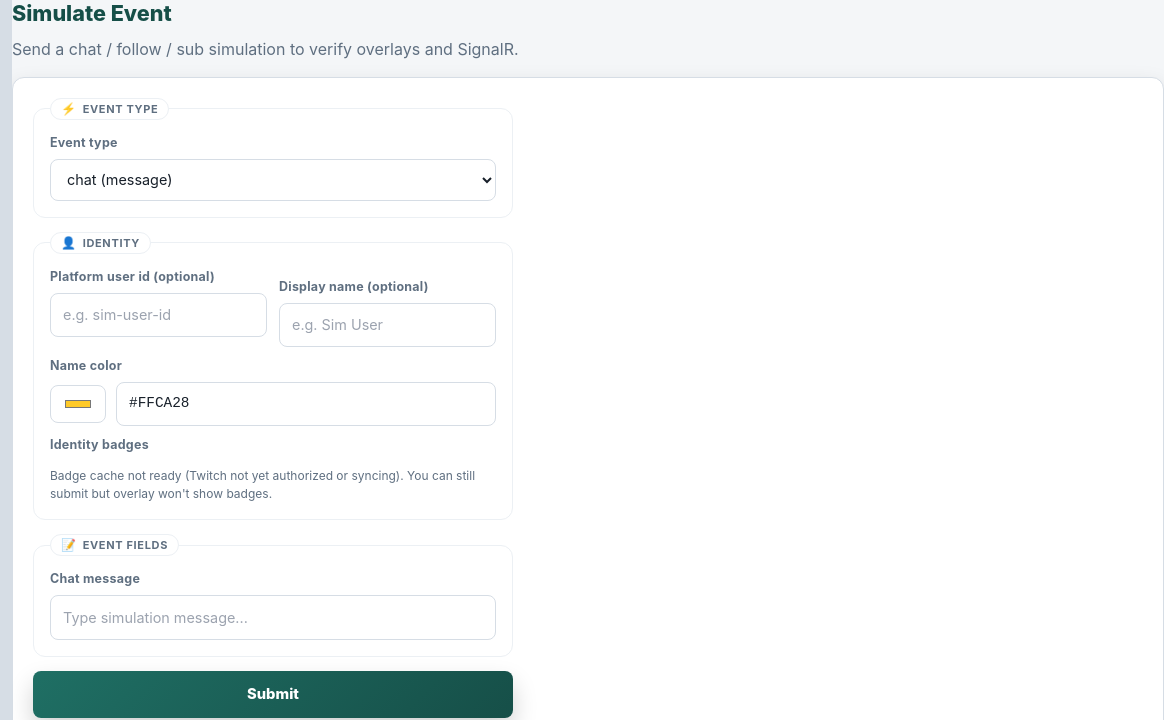
Test: SimulateControlsPanel › should post checkin payload to the dedicated endpoint and render simple success
Select "checkin" in the dropdown labelled "Event type" at (273, 180), box x1=50 y1=159 x2=496 y2=201
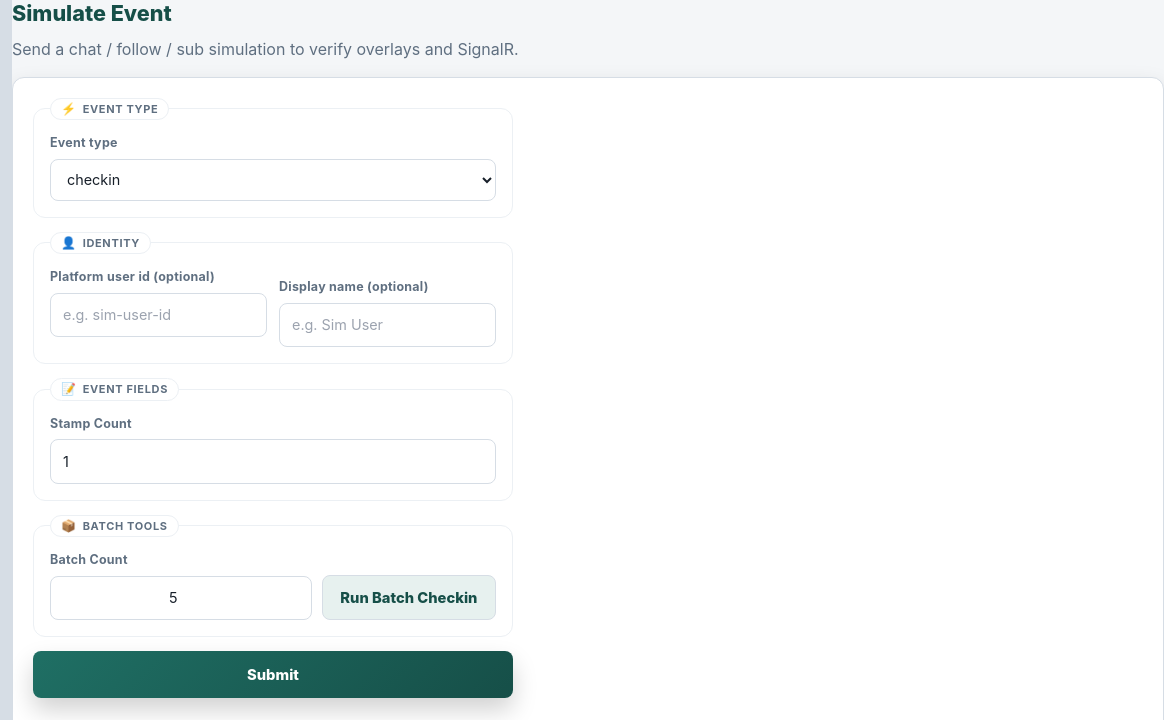
Type "sim-user" into the field with placeholder "e.g. sim-user-id" at (158, 315), box x1=50 y1=293 x2=267 y2=337
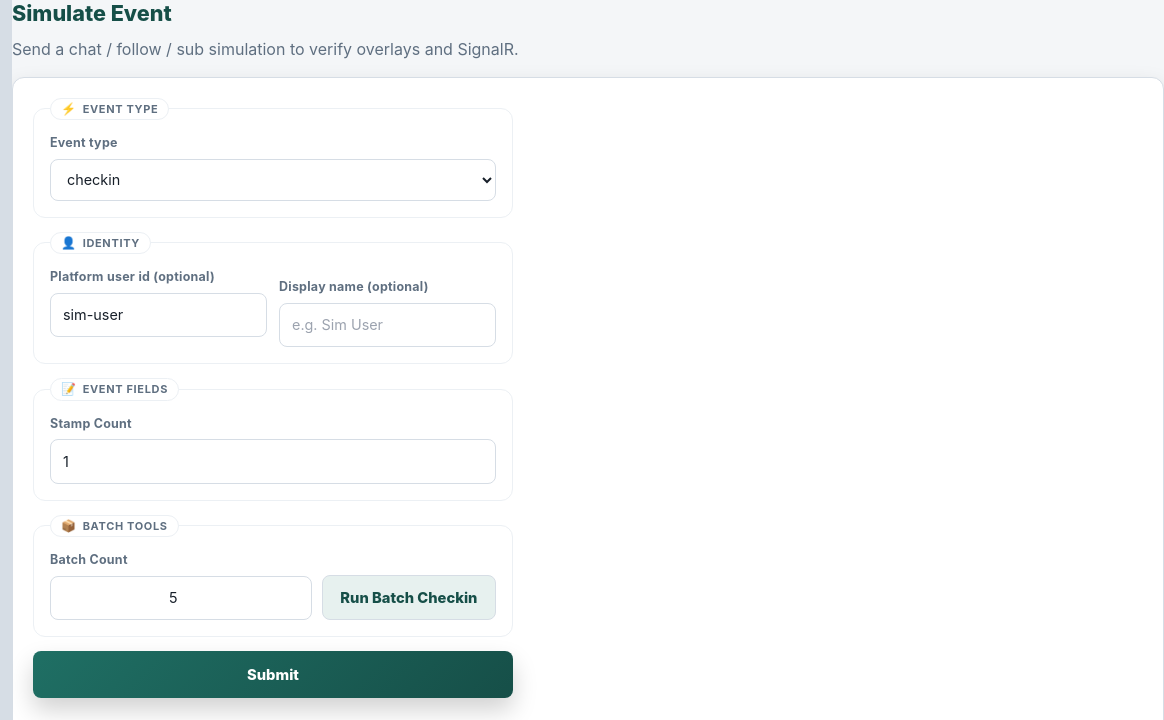
Type "Sim User" into the field with placeholder "e.g. Sim User" at (388, 325), box x1=279 y1=303 x2=496 y2=347
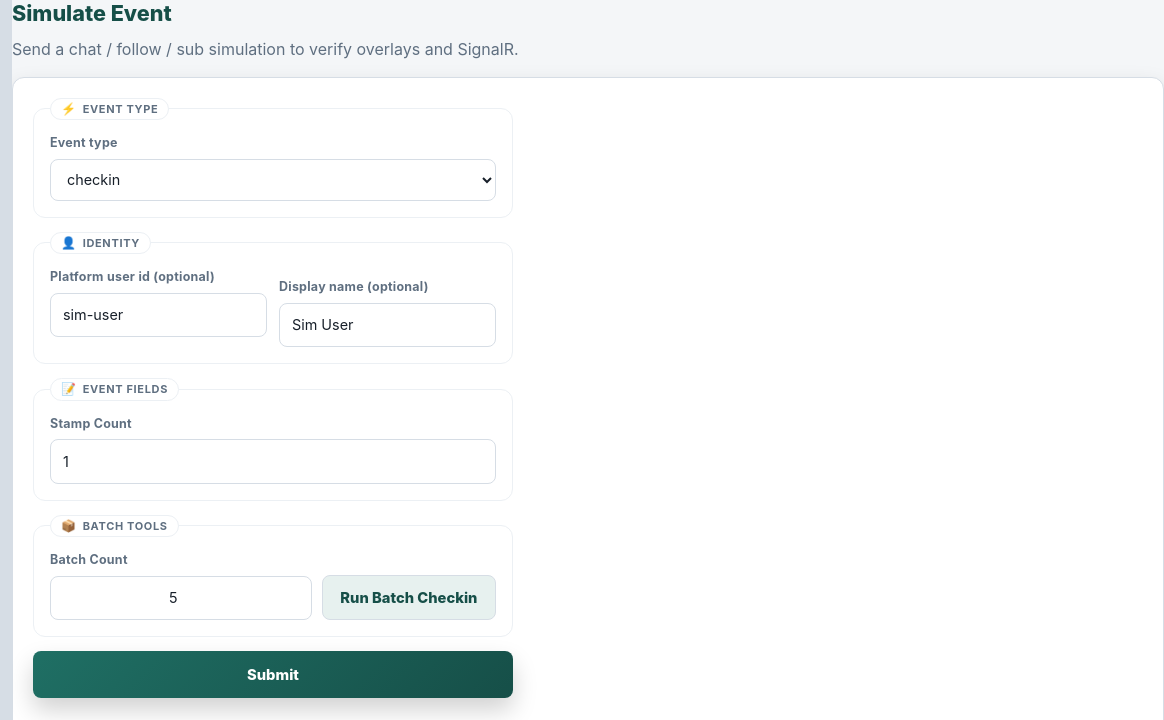
Replace the text in the number field labelled "Stamp Count" with "3" at (273, 462), box x1=50 y1=439 x2=496 y2=484
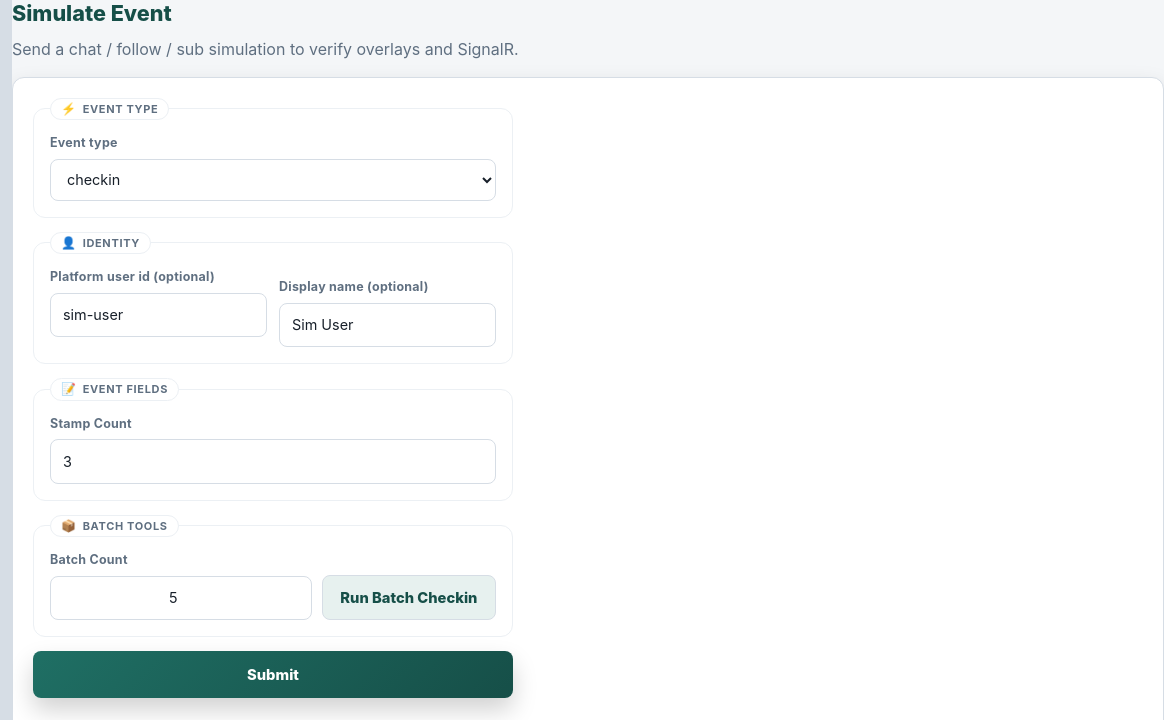
Submit the form, box x1=33 y1=98 x2=513 y2=698
(page scrolled)
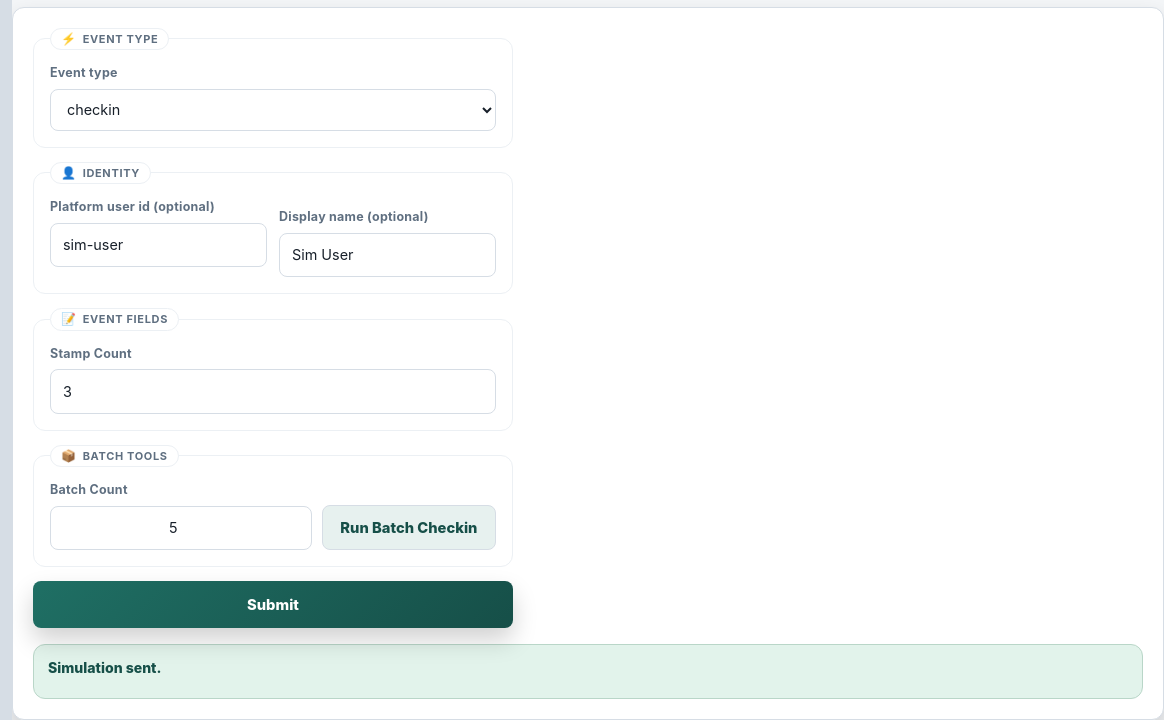
Expected: the message with test id "simulate-success" shows "Simulation sent", x1=48 y1=659 x2=162 y2=676
